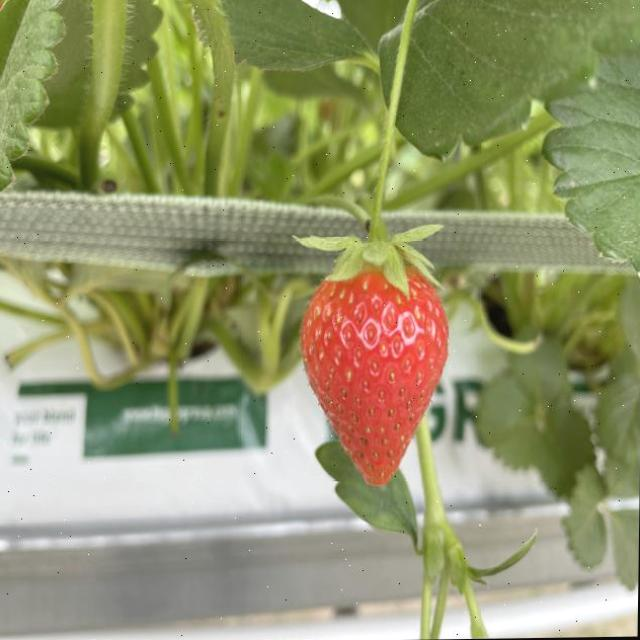stem: (298, 0, 441, 296)
strawberryR: (300, 268, 447, 486)
